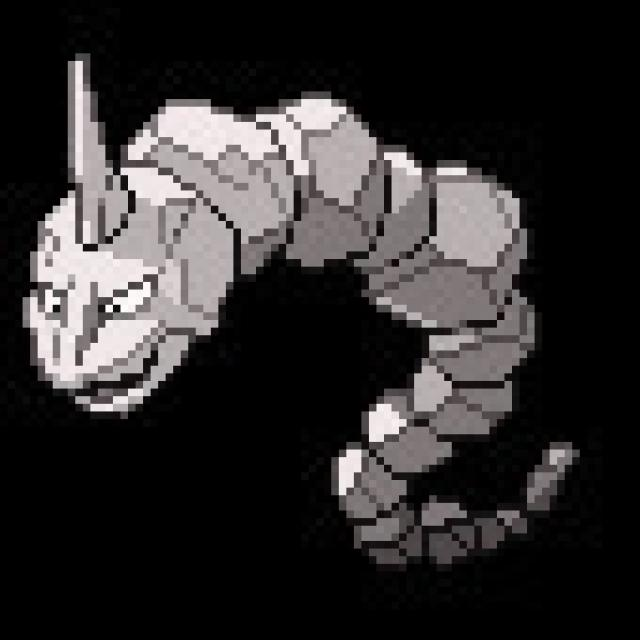Onix: (26, 46, 534, 588)
